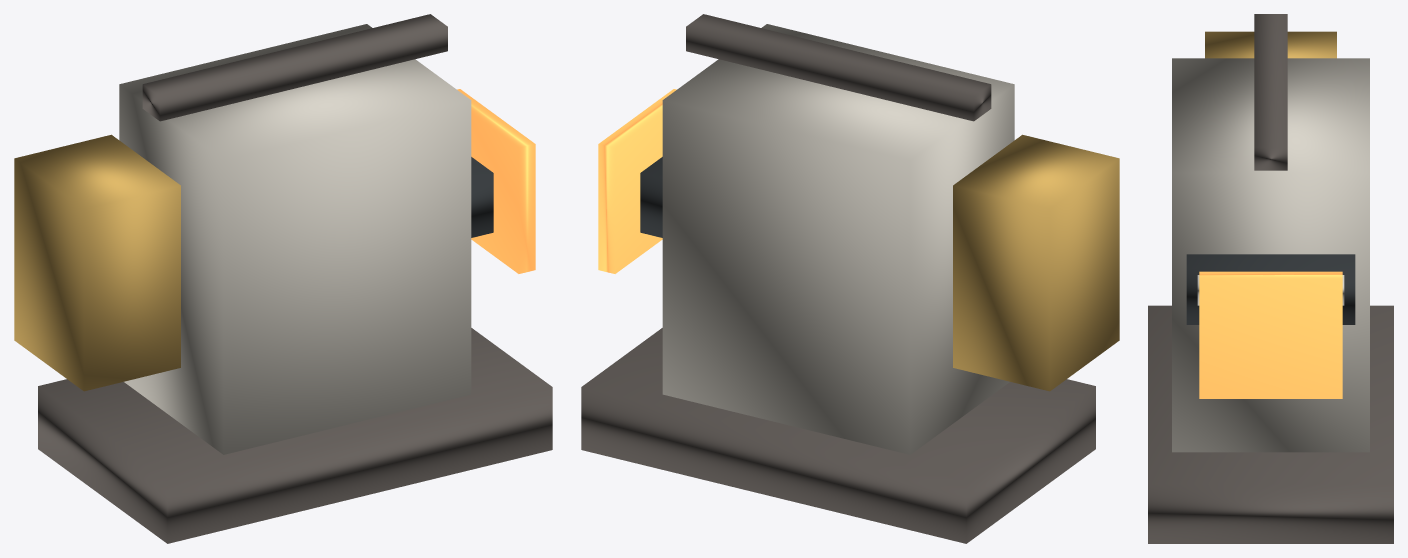
Rendered from solar-yard-sinter-forge-lod1.glb.
3 views of the same model, side by side, from view 1: azimuth 30°, elevation 25°; view 2: azimuth 150°, elevation 25°; view 3: azimuth 270°, elevation 25° (orthographic). The views are drawn at different scales.
Visible parts, largest first — view 1: solar-yard-sinter-forge-chamber, solar-yard-sinter-forge-skid, solar-yard-sinter-forge-feed-hopper, solar-yard-sinter-forge-service-rail, solar-yard-sinter-forge-hot-face, solar-yard-sinter-forge-hearth; view 2: solar-yard-sinter-forge-chamber, solar-yard-sinter-forge-skid, solar-yard-sinter-forge-feed-hopper, solar-yard-sinter-forge-service-rail, solar-yard-sinter-forge-hot-face, solar-yard-sinter-forge-hearth; view 3: solar-yard-sinter-forge-chamber, solar-yard-sinter-forge-skid, solar-yard-sinter-forge-hot-face, solar-yard-sinter-forge-service-rail, solar-yard-sinter-forge-hearth, solar-yard-sinter-forge-feed-hopper.
Part boxes in pixels (x1,y1,x2,y2): solar-yard-sinter-forge-chamber: [119, 24, 471, 454]; solar-yard-sinter-forge-skid: [38, 328, 552, 543]; solar-yard-sinter-forge-feed-hopper: [14, 134, 180, 391]; solar-yard-sinter-forge-service-rail: [142, 14, 447, 121]; solar-yard-sinter-forge-hot-face: [457, 89, 535, 273]; solar-yard-sinter-forge-hearth: [471, 157, 493, 237]; solar-yard-sinter-forge-chamber: [662, 24, 1014, 454]; solar-yard-sinter-forge-skid: [581, 328, 1095, 543]; solar-yard-sinter-forge-feed-hopper: [953, 134, 1119, 391]; solar-yard-sinter-forge-service-rail: [686, 14, 991, 121]; solar-yard-sinter-forge-hot-face: [598, 89, 676, 273]; solar-yard-sinter-forge-hearth: [640, 157, 662, 237]; solar-yard-sinter-forge-chamber: [1172, 58, 1369, 452]; solar-yard-sinter-forge-skid: [1148, 305, 1393, 543]; solar-yard-sinter-forge-hot-face: [1199, 271, 1342, 398]; solar-yard-sinter-forge-service-rail: [1254, 14, 1287, 170]; solar-yard-sinter-forge-hearth: [1186, 254, 1355, 324]; solar-yard-sinter-forge-feed-hopper: [1205, 31, 1336, 58].
Size of the model in its own units: 2.68 by 2.25 by 1.34.
